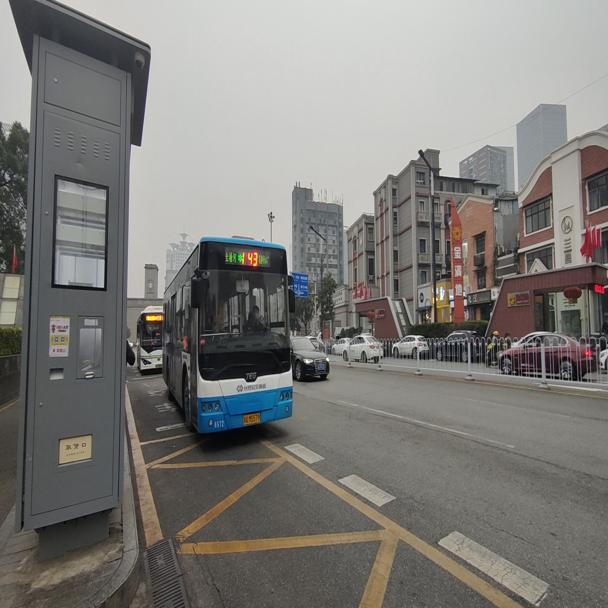bus: (162, 236, 295, 444), (135, 304, 162, 372)
screen: (240, 249, 259, 267)
